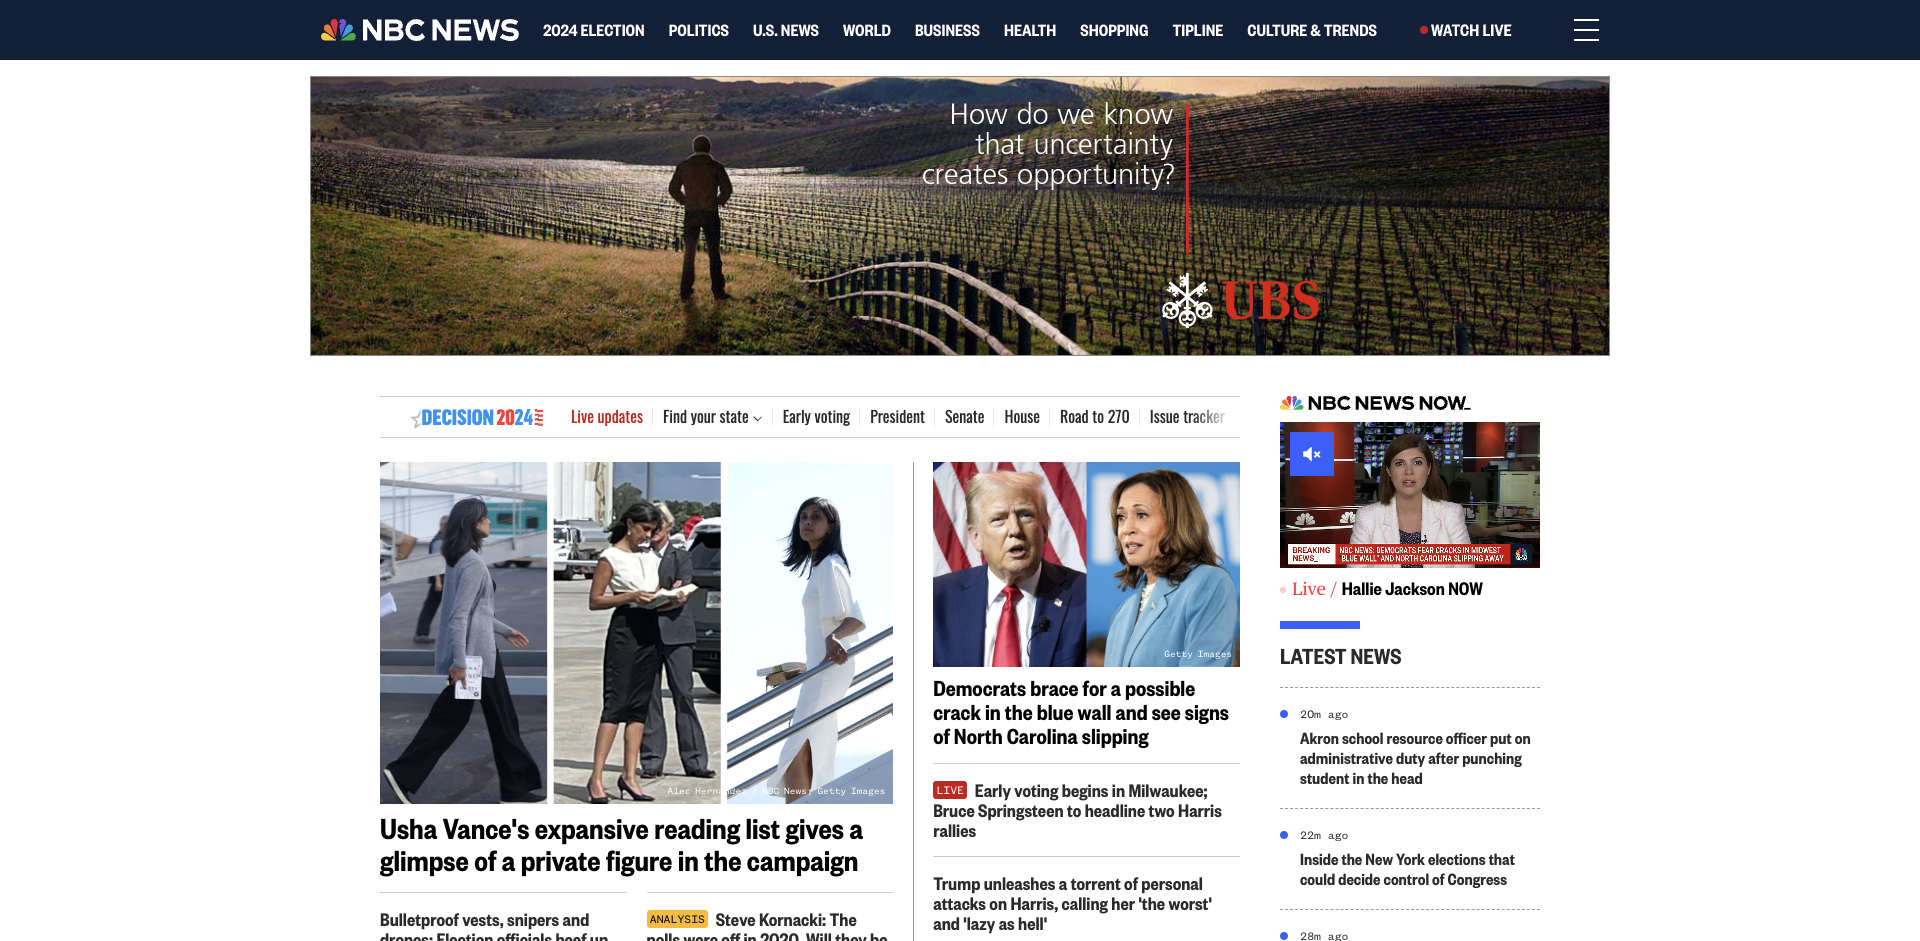button: (1248, 0, 1378, 60), (544, 0, 644, 60), (1478, 59, 1558, 119), (1080, 0, 1149, 60), (753, 0, 819, 60), (915, 0, 980, 60), (669, 0, 729, 60), (1004, 0, 1057, 60), (1173, 0, 1223, 60), (842, 0, 891, 60), (1558, 11, 1615, 49), (1408, 448, 1440, 483), (1880, 9, 1911, 40), (1408, 448, 1440, 480)
dropdown: (0, 0, 1920, 60), (1190, 60, 1558, 120)
input: (480, 428, 1404, 500)
link: (380, 462, 893, 804), (933, 462, 1240, 667), (380, 809, 863, 879), (933, 673, 1229, 749), (933, 778, 1222, 841), (933, 870, 1212, 934), (1300, 727, 1531, 788), (321, 0, 519, 60), (1300, 848, 1515, 888), (647, 907, 888, 941), (380, 907, 609, 941), (1431, 21, 1526, 39), (1368, 83, 1389, 102), (1408, 83, 1428, 102), (1449, 83, 1468, 102)
